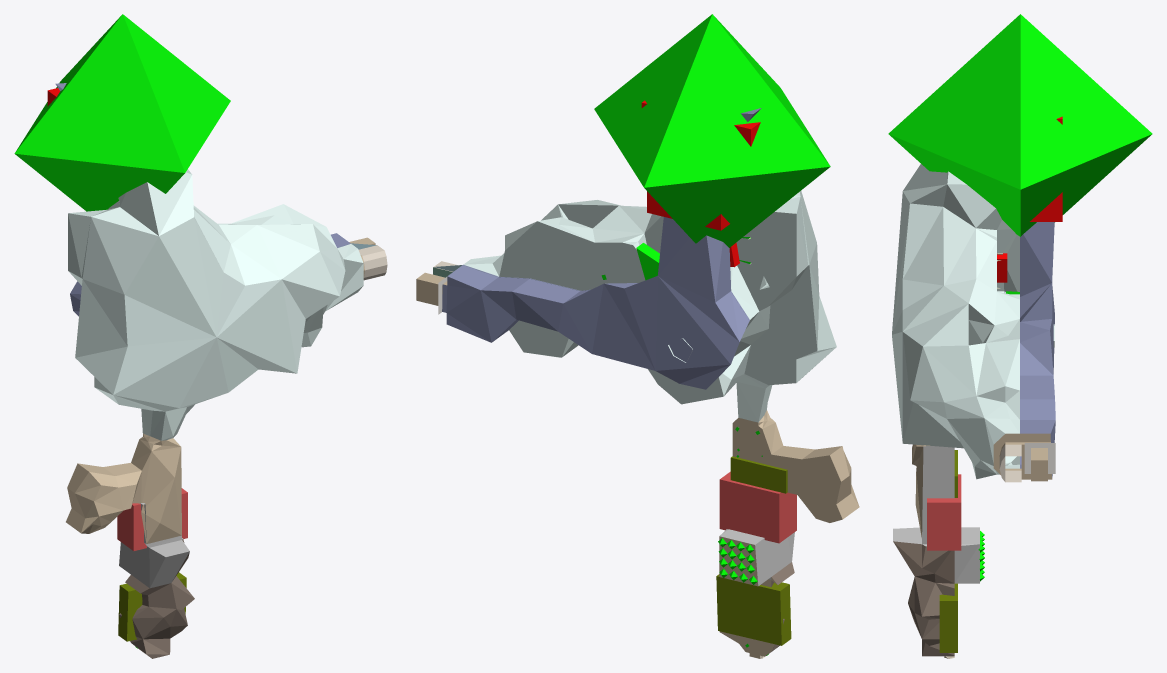
The model's file is prison2.obj.
The picture shows the model from 3 angles, left to right: view 1: azimuth 30°, elevation 25°; view 2: azimuth 150°, elevation 25°; view 3: azimuth 270°, elevation 25°; orthographic projection. The views are drawn at different scales.
Parts seen in each view (by area): view 1: P2_cavernlow02, RiverAudio, P2_upperwalls03, P2_upperwalls04, p2longhallcam01, P2_upperwallspit05, p2longhallcam05, P2_upperwalls_pit_top02, P2_tunnel02; view 2: RiverAudio, P2_waterwalls02, P2_cavernlow02, P2_cavernledgefloorbig02, P2_cavernledge04, P2_cavernledgelil02, p2longhallcam05, p2longhallcam01, P2_upperwalls1floor02, P2_upperwalls03, P2_upperwallsfloor02, p2longhallcam04 (+8 smaller); view 3: P2_cavernlow02, RiverAudio, P2_waterwalls02, P2_upperwalls04, p2longhallcam01, P2_cave_brick03, P2_upperwallspitcavin02, p2longhallcam05, P2_upperwallspit06, P2_waterarch02, P2_upperwalls03, P2_tunnel02 (+4 smaller).
Boxes of the visible parts, x1,y1,x2,y2 form: P2_cavernlow02: [68, 169, 363, 440]; RiverAudio: [14, 14, 230, 211]; P2_upperwalls03: [66, 433, 181, 543]; P2_upperwalls04: [119, 575, 194, 658]; p2longhallcam01: [117, 488, 187, 550]; P2_upperwallspit05: [119, 542, 165, 587]; p2longhallcam05: [118, 572, 186, 641]; P2_upperwalls_pit_top02: [150, 540, 189, 588]; P2_tunnel02: [358, 245, 387, 280]; RiverAudio: [594, 14, 830, 247]; P2_waterwalls02: [442, 108, 761, 389]; P2_cavernlow02: [463, 190, 836, 422]; P2_cavernledgefloorbig02: [499, 221, 645, 290]; P2_cavernledge04: [744, 265, 817, 385]; P2_cavernledgelil02: [736, 212, 796, 310]; p2longhallcam05: [716, 574, 791, 645]; p2longhallcam01: [719, 471, 796, 543]; P2_upperwalls1floor02: [797, 455, 842, 522]; P2_upperwalls03: [735, 410, 859, 519]; P2_upperwallsfloor02: [732, 418, 801, 494]; p2longhallcam04: [730, 456, 787, 493]; P2_cavernlow02: [892, 164, 1054, 479]; RiverAudio: [888, 14, 1152, 236]; P2_waterwalls02: [1020, 222, 1055, 477]; P2_upperwalls04: [908, 576, 954, 656]; p2longhallcam01: [927, 474, 961, 550]; P2_cave_brick03: [922, 446, 954, 539]; P2_upperwallspitcavin02: [893, 541, 954, 583]; p2longhallcam05: [939, 583, 957, 652]; P2_upperwallspit06: [954, 544, 979, 583]; P2_waterarch02: [993, 433, 1052, 479]; P2_upperwalls03: [912, 444, 929, 537]; P2_tunnel02: [999, 444, 1021, 482].
Bounding box in the file's own units: 61.68 × 98.16 × 36.48.
